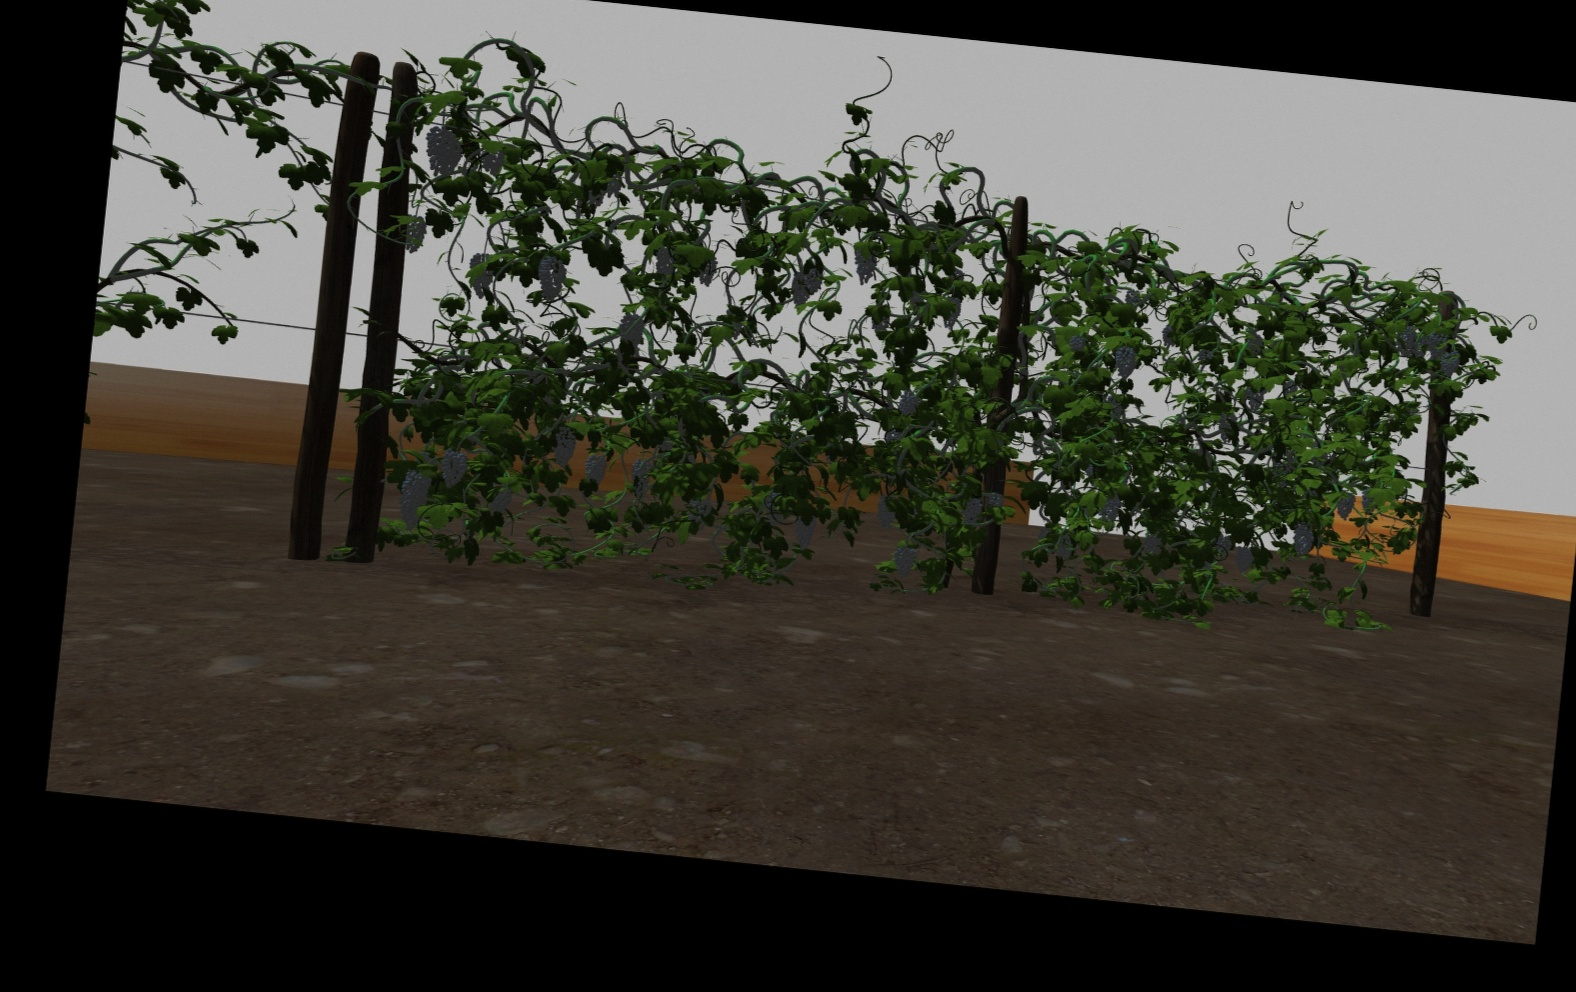grape: (423, 126, 462, 177), (536, 254, 566, 302), (467, 251, 496, 299), (439, 448, 466, 488), (397, 497, 425, 533), (851, 245, 877, 285), (617, 312, 645, 347), (552, 426, 575, 469), (401, 470, 430, 502), (405, 215, 426, 256), (630, 458, 651, 497), (583, 454, 607, 486), (891, 544, 914, 577), (488, 486, 512, 517), (1291, 523, 1314, 555), (794, 514, 815, 550), (653, 247, 674, 280), (1114, 345, 1136, 378), (790, 273, 809, 309), (696, 255, 717, 288), (941, 296, 960, 330), (1397, 323, 1416, 358), (480, 150, 505, 176), (1245, 384, 1266, 413), (961, 498, 982, 528), (1335, 490, 1355, 520), (687, 498, 712, 522), (896, 391, 919, 417), (1233, 546, 1255, 574), (1426, 331, 1448, 359), (875, 497, 895, 527), (1440, 350, 1461, 377), (1101, 495, 1120, 522), (1054, 535, 1073, 561), (1214, 533, 1232, 558), (805, 267, 822, 294), (1142, 533, 1161, 554), (1360, 490, 1376, 517), (1067, 334, 1086, 352), (1123, 289, 1141, 306), (986, 491, 1005, 507), (885, 429, 901, 443)
